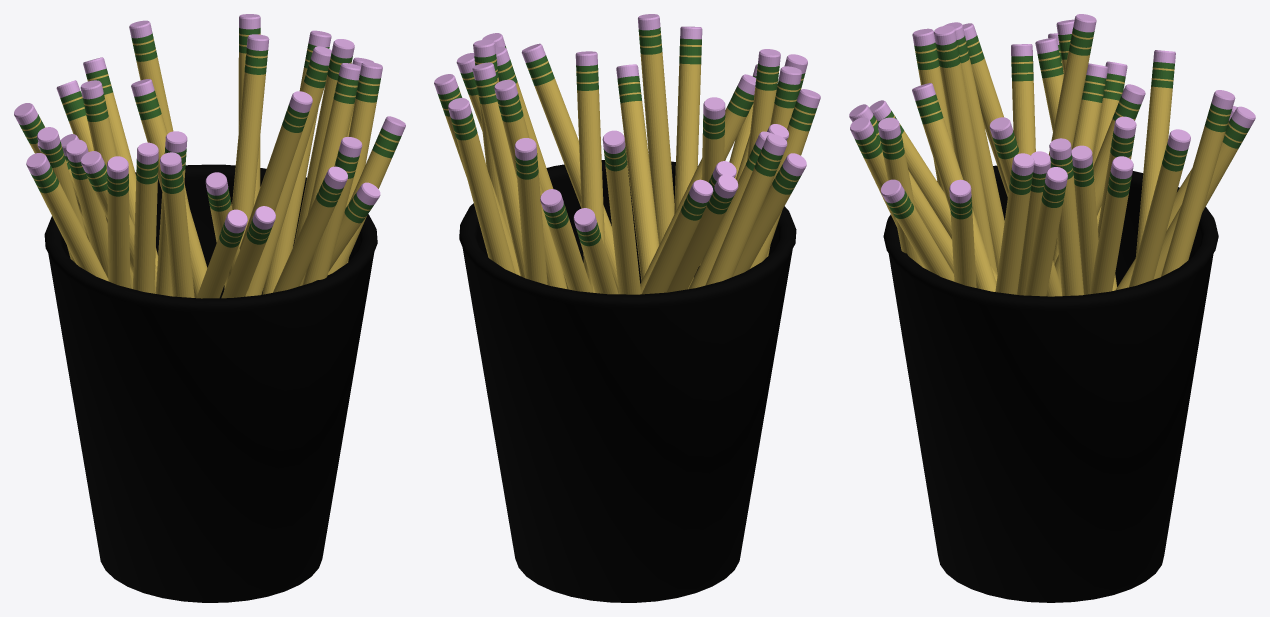
Rendered from Pencil Cup EXPORT.fbx.
3 views of the same model, side by side, from view 1: azimuth 30°, elevation 25°; view 2: azimuth 150°, elevation 25°; view 3: azimuth 270°, elevation 25° (orthographic).
Parts seen in each view (by area): view 1: Cylinder.031; view 2: Cylinder.031; view 3: Cylinder.031.
Boxes of the visible parts, x1,y1,x2,y2 form: Cylinder.031: [14, 14, 405, 602]; Cylinder.031: [434, 14, 820, 602]; Cylinder.031: [849, 14, 1255, 602].
Bounding box in the file's own units: 251 × 343 × 255.
